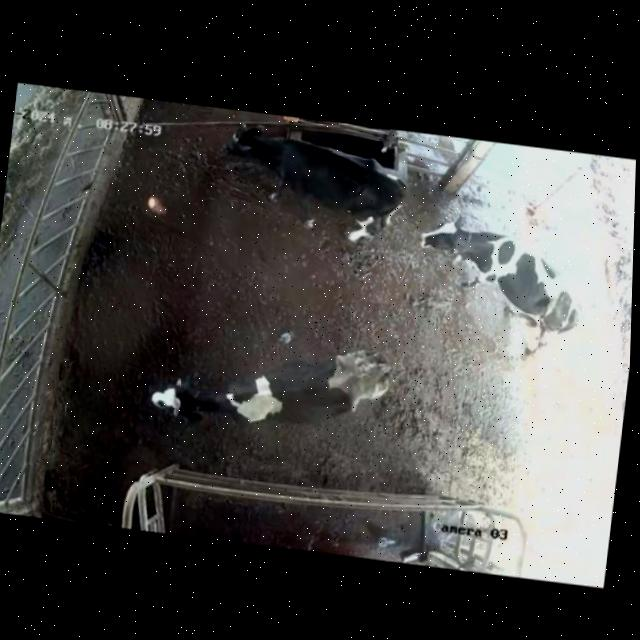stand: (113, 301, 415, 471), (403, 191, 597, 371), (207, 117, 421, 256)
